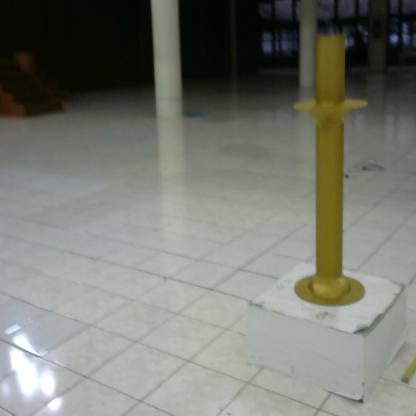pole: (287, 23, 381, 318)
